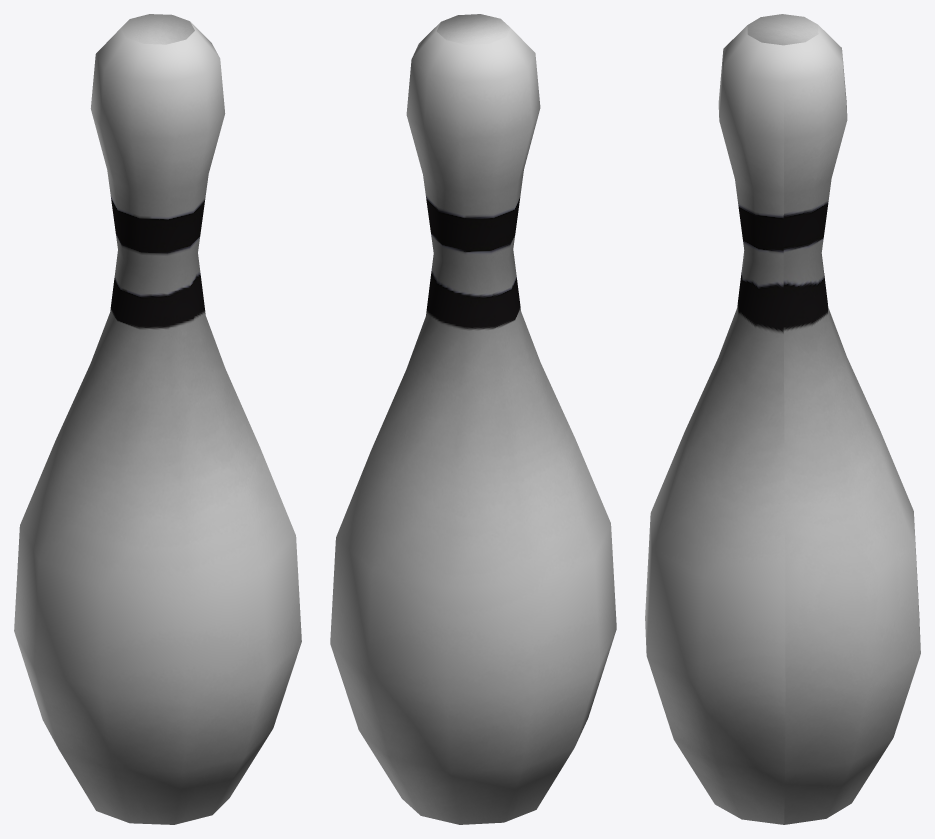
The model's file is Bowling_pin.FBX.
3 views of the same model, side by side, from view 1: azimuth 30°, elevation 25°; view 2: azimuth 150°, elevation 25°; view 3: azimuth 270°, elevation 25° (orthographic).
Parts seen in each view (by area): view 1: Cylinder029; view 2: Cylinder029; view 3: Cylinder029.
Boxes of the visible parts, x1,y1,x2,y2 form: Cylinder029: (14,14,301,824); Cylinder029: (330,14,616,824); Cylinder029: (645,14,920,824).
Size of the model in its own units: 45.44 by 133 by 43.46.
Materials: 1 (1 with a texture image).
